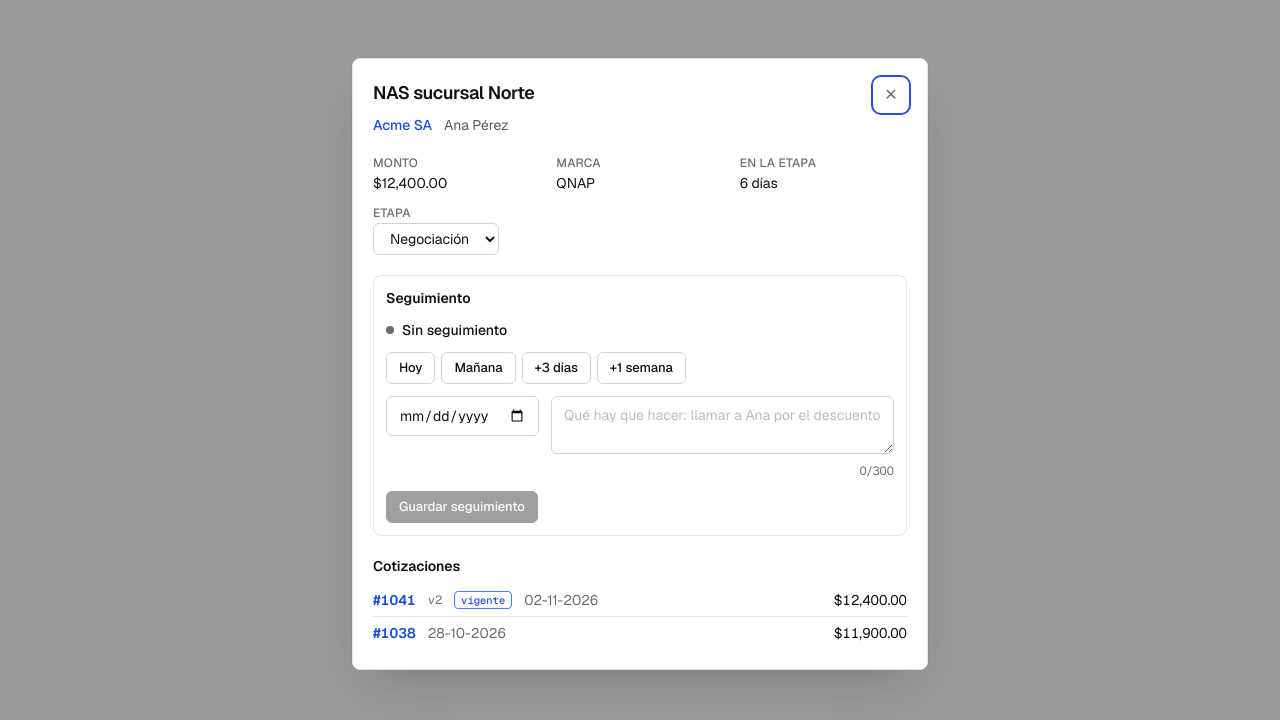
Scenario: OportunidadPanel › seguimiento › una nota sin fecha no se puede guardar y lo explica
Expected: the dialog "NAS sucursal Norte" is shown, [352,58,928,670]
Expected: the heading "Seguimiento" is shown, [386,289,471,307]
Type "Llamar a Ana" into the text box named "Nota del seguimiento".
click(722, 425); type("Llamar a Ana")  # box [551,396,894,454]
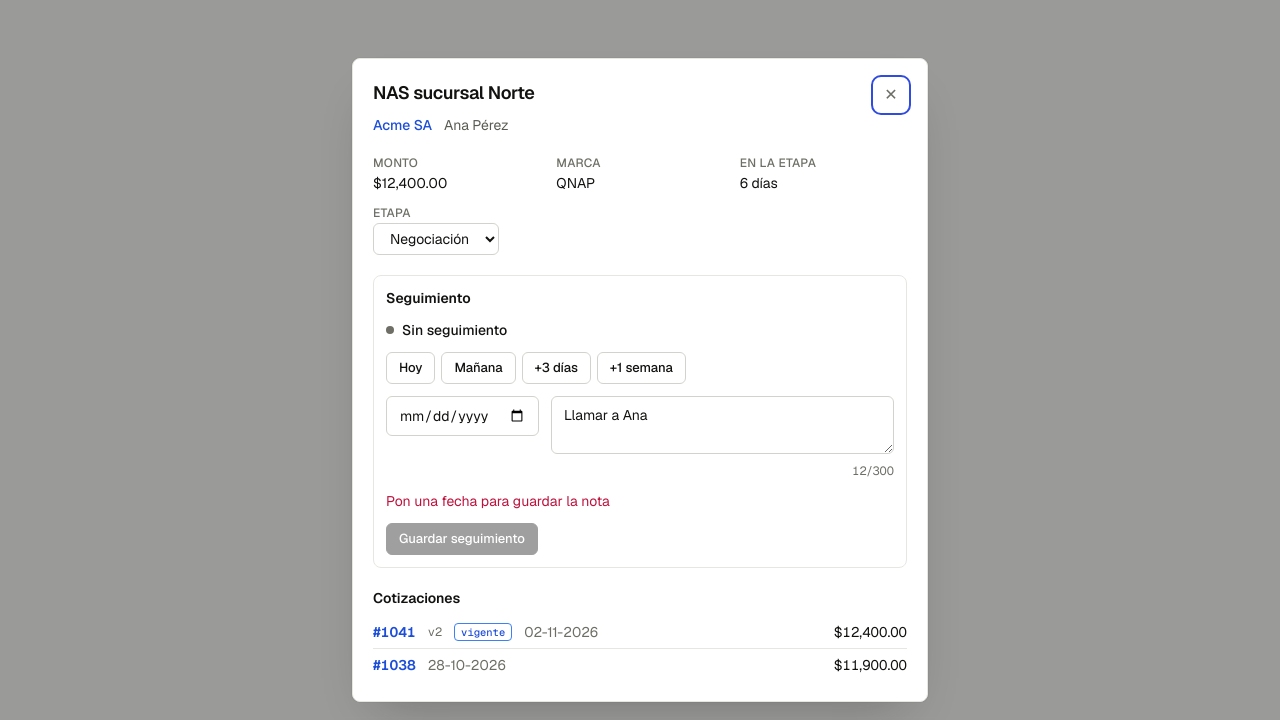
Expected: the button "Guardar seguimiento" is disabled, [386,523,538,555]
Result: the text "Pon una fecha para guardar la nota" is shown at [386,492,610,510]
Click the button "Hoy".
click(411, 368)  # box [386,352,436,384]
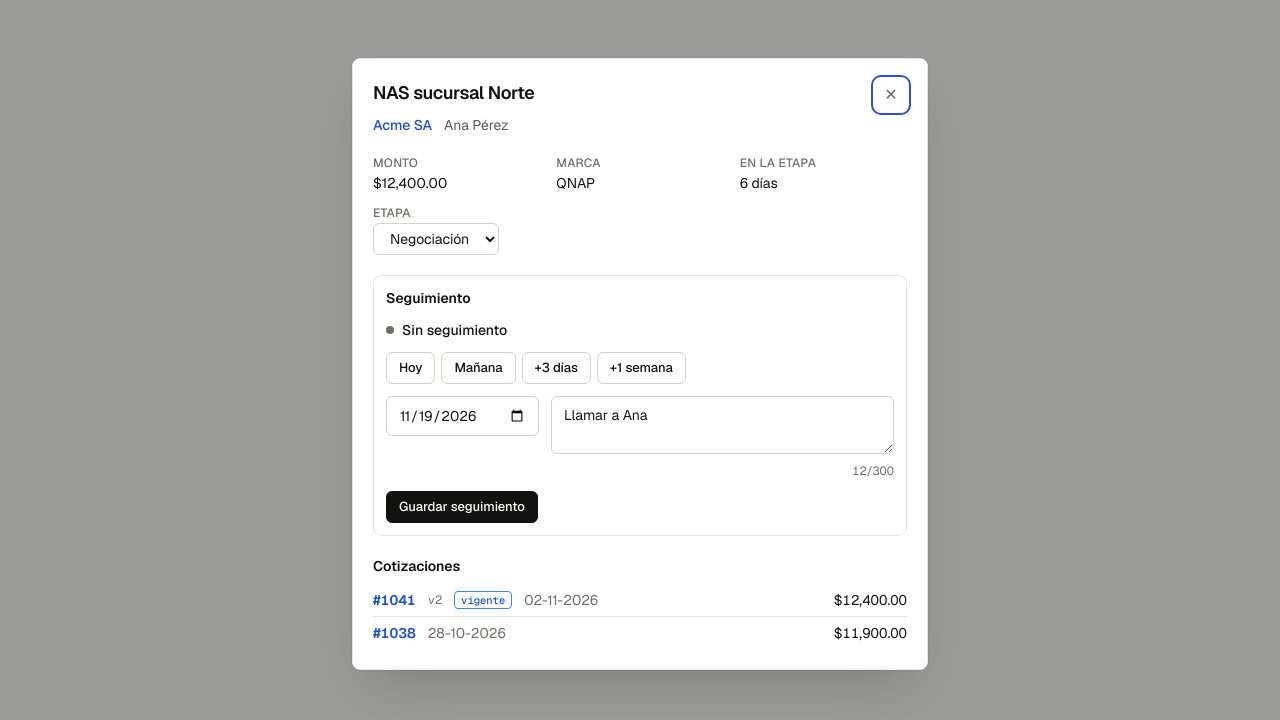
Result: the text "Pon una fecha para guardar la nota" is gone
Result: the button "Guardar seguimiento" is enabled at [386,491,538,523]
